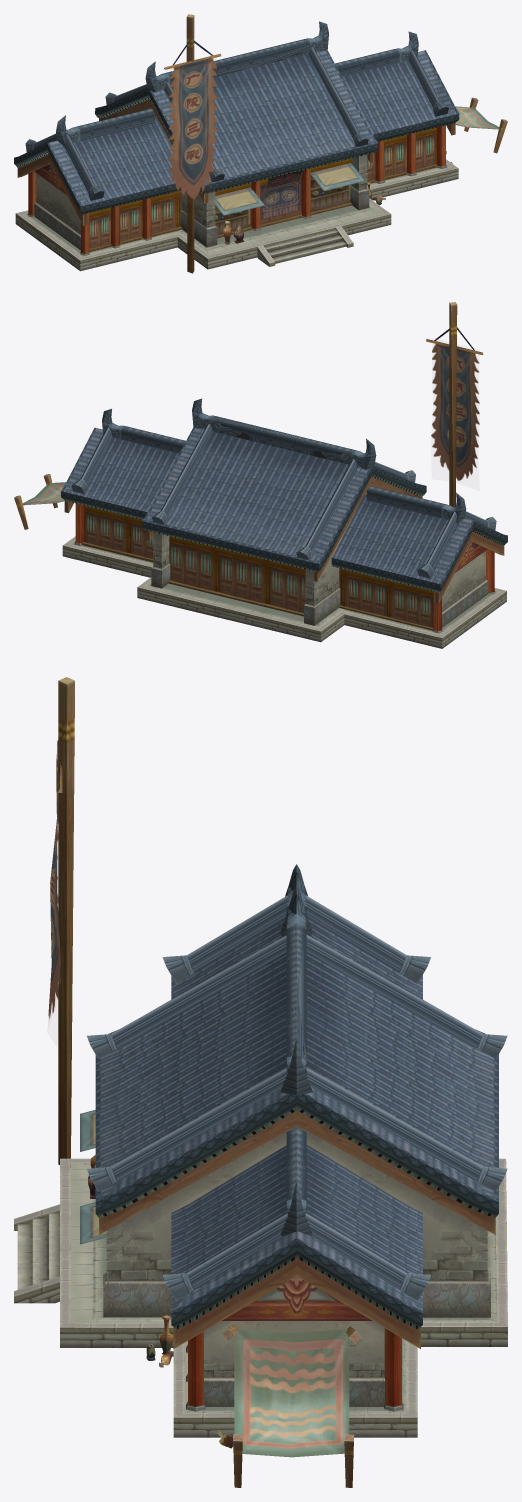
3 views of the same model, one above another, from view 1: azimuth 30°, elevation 25°; view 2: azimuth 150°, elevation 25°; view 3: azimuth 270°, elevation 25° (orthographic). The views are drawn at different scales.
Parts seen in each view (by area): view 1: gujian_319, gujian_309, gujian_316, gujian_311, gujian_317, gujian_314, gujian_312, gujian_315, gujian_318, gujian_313, gujian_310; view 2: gujian_319, gujian_317, gujian_309, gujian_311, gujian_316, gujian_318, gujian_314, gujian_313, gujian_312, gujian_310, gujian_315; view 3: gujian_319, gujian_309, gujian_311, gujian_313, gujian_315, gujian_318, gujian_314, gujian_312, gujian_310, gujian_316.
Boxes of the visible parts, x1=… form: gujian_319: x1=14, y1=50, x2=459, y2=212; gujian_309: x1=25, y1=21, x2=448, y2=200; gujian_316: x1=168, y1=57, x2=446, y2=244; gujian_311: x1=15, y1=159, x2=458, y2=271; gujian_317: x1=89, y1=127, x2=436, y2=251; gujian_314: x1=28, y1=125, x2=446, y2=255; gujian_312: x1=24, y1=164, x2=449, y2=263; gujian_315: x1=172, y1=40, x2=507, y2=219; gujian_318: x1=14, y1=94, x2=458, y2=225; gujian_313: x1=36, y1=108, x2=367, y2=234; gujian_310: x1=164, y1=14, x2=507, y2=273; gujian_319: x1=61, y1=427, x2=507, y2=590; gujian_317: x1=81, y1=505, x2=433, y2=630; gujian_309: x1=71, y1=398, x2=496, y2=578; gujian_311: x1=62, y1=536, x2=506, y2=648; gujian_316: x1=431, y1=344, x2=479, y2=480; gujian_318: x1=62, y1=472, x2=507, y2=603; gujian_314: x1=74, y1=503, x2=495, y2=632; gujian_313: x1=153, y1=486, x2=485, y2=611; gujian_312: x1=71, y1=541, x2=498, y2=634; gujian_310: x1=14, y1=302, x2=482, y2=529; gujian_315: x1=14, y1=327, x2=474, y2=505; gujian_319: x1=95, y1=918, x2=498, y2=1324; gujian_309: x1=87, y1=864, x2=507, y2=1301; gujian_311: x1=14, y1=1158, x2=507, y2=1437; gujian_313: x1=106, y1=1125, x2=487, y2=1377; gujian_315: x1=59, y1=732, x2=361, y2=1457; gujian_318: x1=95, y1=1103, x2=498, y2=1348; gujian_314: x1=103, y1=1273, x2=490, y2=1411; gujian_312: x1=17, y1=1163, x2=496, y2=1412; gujian_310: x1=57, y1=677, x2=355, y2=1487; gujian_316: x1=48, y1=754, x2=173, y2=1367.
Bounding box in the file's own units: 2.64 × 1.47 × 1.35.
Materials: 11 (11 with a texture image).
